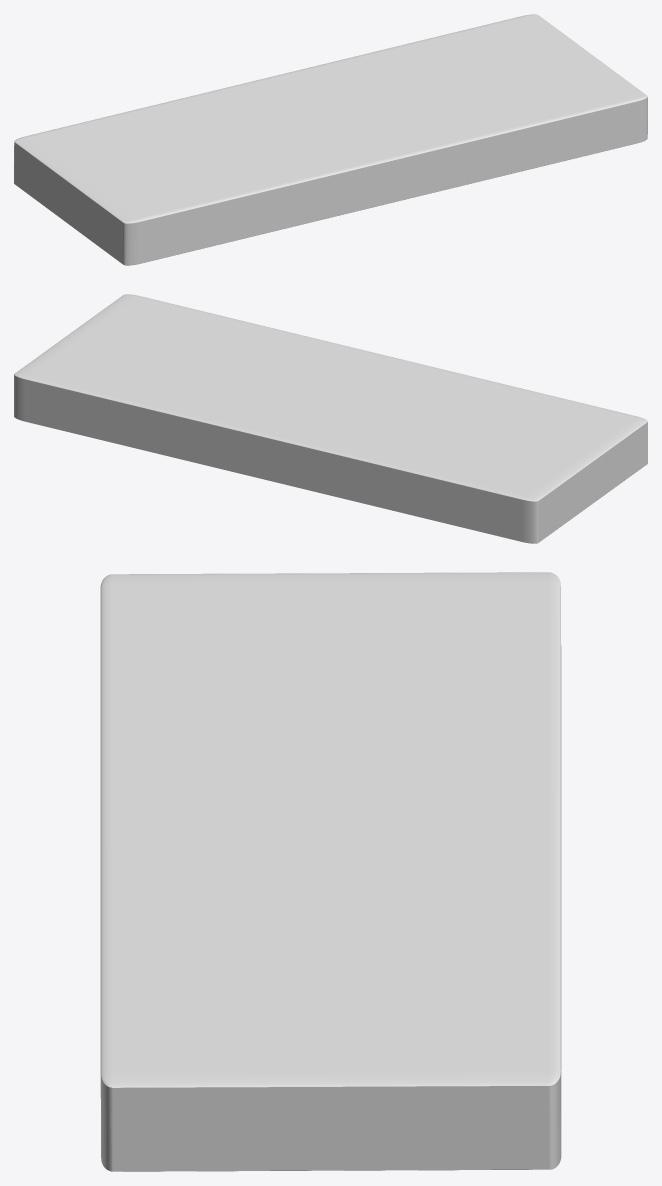
Rendered from rimokon.fbx.
The picture shows the model from 3 angles, top to bottom: view 1: azimuth 30°, elevation 25°; view 2: azimuth 150°, elevation 25°; view 3: azimuth 270°, elevation 25°; orthographic projection. The views are drawn at different scales.
Visible parts, largest first — view 1: Cube.001; view 2: Cube.001; view 3: Cube.001.
Part boxes in pixels (bbox=[...]): Cube.001: bbox=[14, 14, 647, 265]; Cube.001: bbox=[14, 294, 647, 543]; Cube.001: bbox=[100, 572, 561, 1171].
Bounding box in the file's own units: 614 × 61.27 × 234.
Materials: 2 (1 with a texture image).
